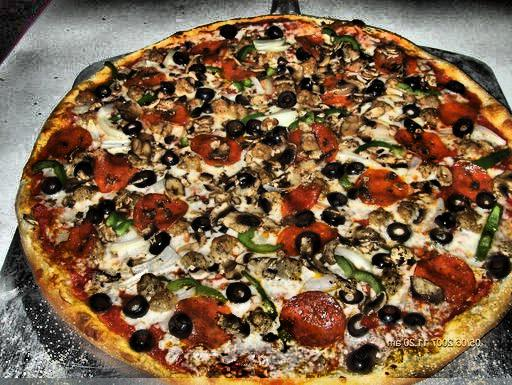pizza: (14, 28, 512, 380)
